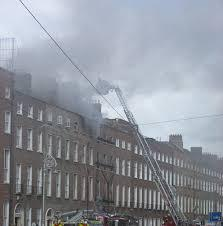smoke: (4, 0, 223, 139)
